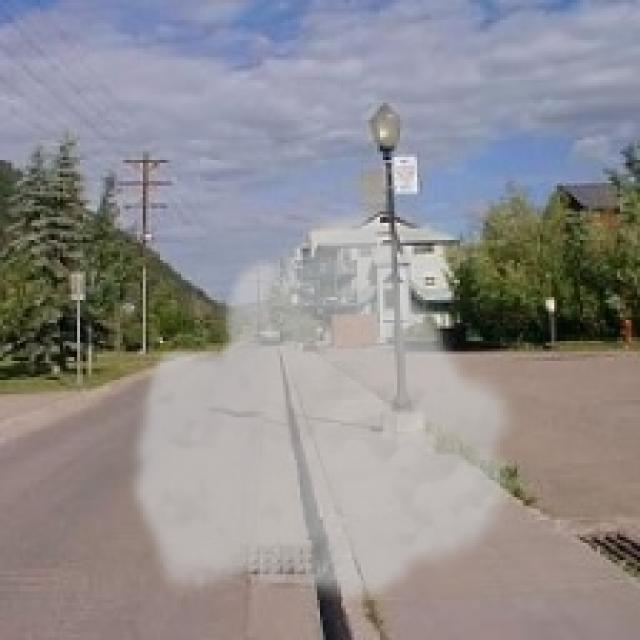Smoke: (125, 200, 526, 606)
